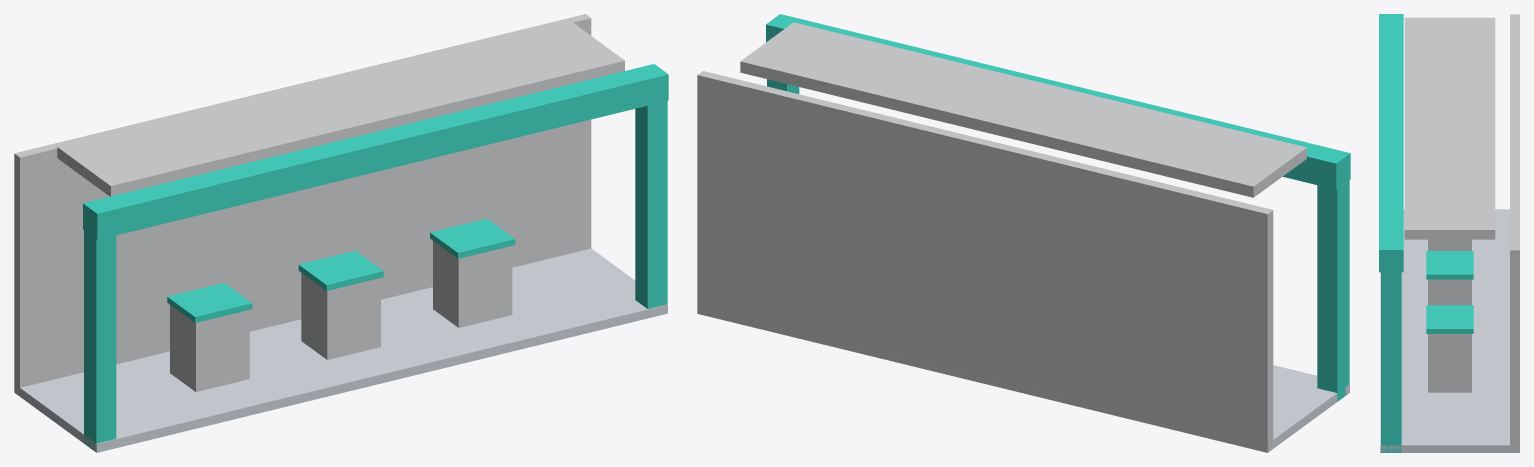
The picture shows the model from 3 angles, left to right: view 1: azimuth 30°, elevation 25°; view 2: azimuth 150°, elevation 25°; view 3: azimuth 270°, elevation 25°; orthographic projection. The views are drawn at different scales.
Visible parts, largest first — view 1: Exhibition Booth Concept; view 2: Exhibition Booth Concept; view 3: Exhibition Booth Concept.
Boxes of the visible parts, box(x1,y1,x2,y2) form: Exhibition Booth Concept: box(14, 14, 668, 452); Exhibition Booth Concept: box(697, 14, 1350, 452); Exhibition Booth Concept: box(1379, 14, 1519, 452).
Bounding box in the file's own units: 8 × 3.34 × 2.01.
